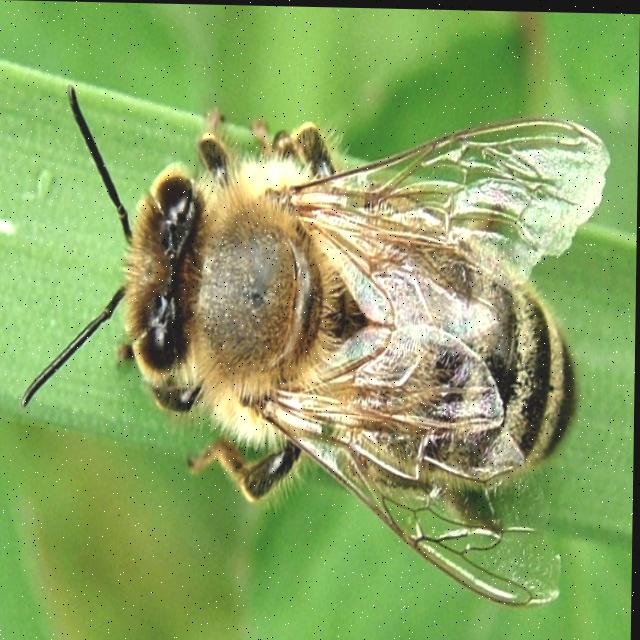Apis-mellifera-scutellata: (43, 48, 639, 613)
